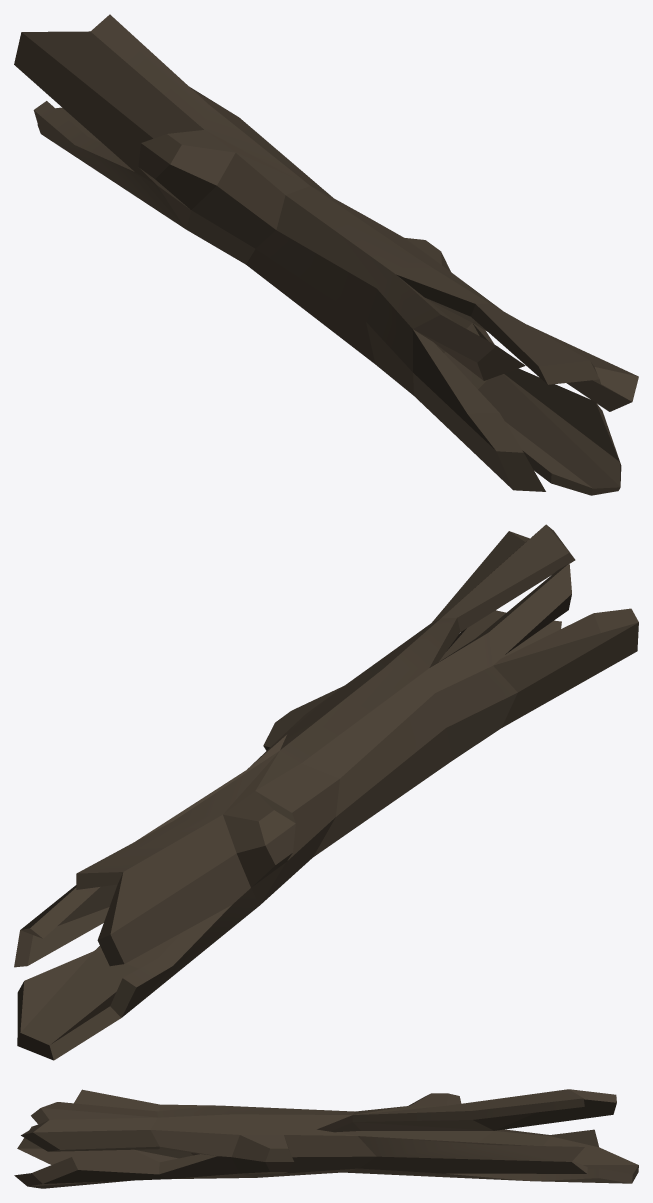
The model's file is SM_Tree_Log_01.fbx.
3 views of the same model, one above another, from view 1: azimuth 30°, elevation 25°; view 2: azimuth 150°, elevation 25°; view 3: azimuth 270°, elevation 25° (orthographic). The views are drawn at different scales.
Visible parts, largest first — view 1: SM_Tree_Log_01; view 2: SM_Tree_Log_01; view 3: SM_Tree_Log_01.
Boxes of the visible parts, <box> form: SM_Tree_Log_01: <box>14,14,638,495</box>; SM_Tree_Log_01: <box>14,524,638,1060</box>; SM_Tree_Log_01: <box>14,1089,638,1188</box>.
Size of the model in its own units: 19.45 by 18.17 by 120.
1 material, 1 textured.
